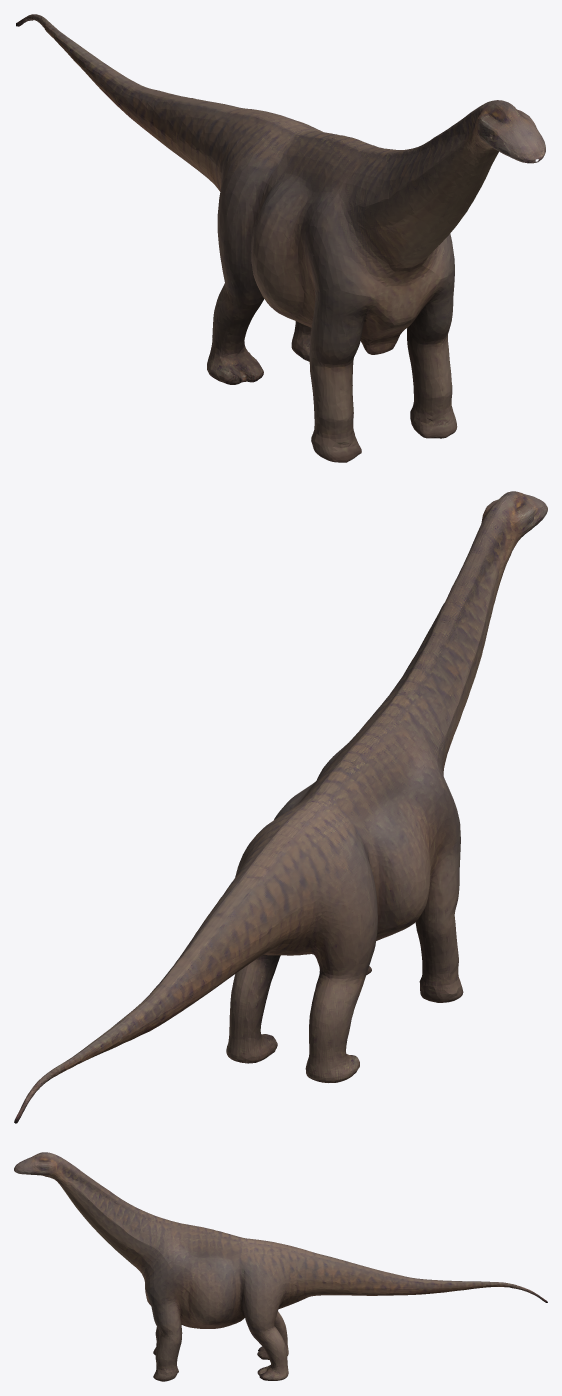
3 views of the same model, one above another, from view 1: azimuth 30°, elevation 25°; view 2: azimuth 150°, elevation 25°; view 3: azimuth 270°, elevation 25° (orthographic). The views are drawn at different scales.
Visible parts, largest first — view 1: world; view 2: world; view 3: world.
Part boxes in pixels (x1,y1,x2,y2): world: (16,14,545,462); world: (14,491,547,1123); world: (14,1152,547,1381).
Bounding box in the file's own units: 0.1698 × 0.4428 × 1.
Materials: 2 (2 with a texture image).
